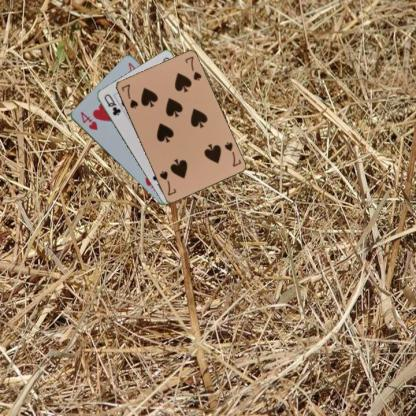4h: (77, 109, 99, 131)
7s: (118, 81, 140, 110), (221, 139, 242, 168)
Qc: (101, 91, 123, 117)
